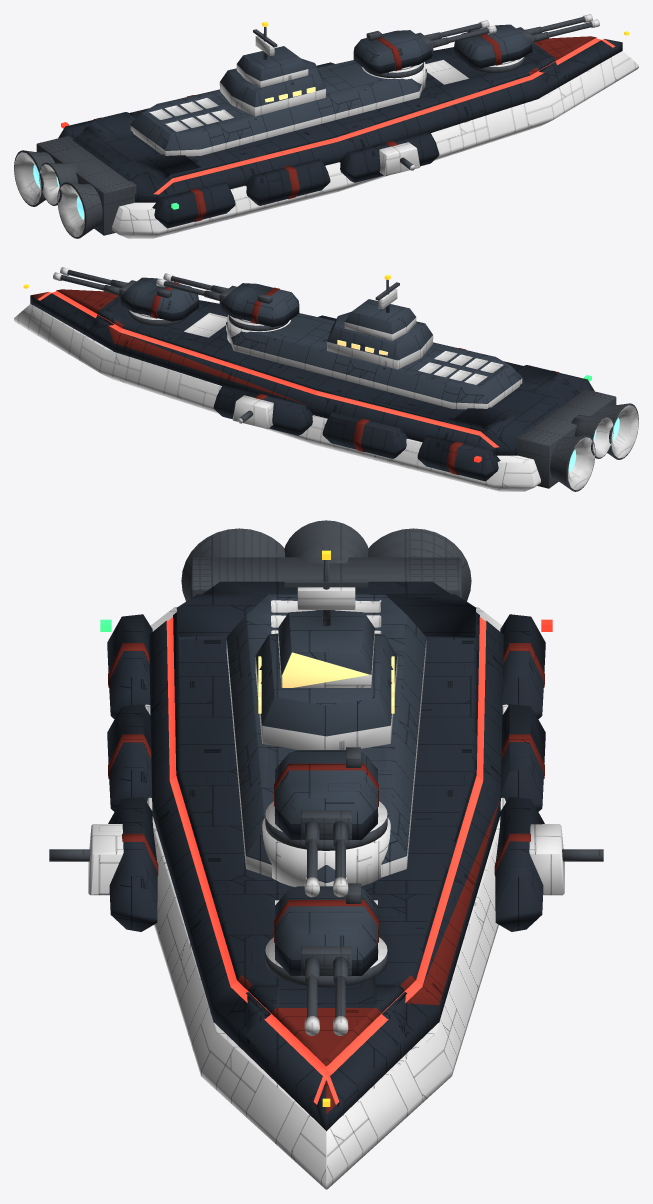
Rendered from bastion_production_v1_lod2.glb.
The picture shows the model from 3 angles, top to bottom: view 1: azimuth 30°, elevation 25°; view 2: azimuth 150°, elevation 25°; view 3: azimuth 270°, elevation 25°; orthographic projection. The views are drawn at different scales.
Visible parts, largest first — view 1: LOD0_Hull, LOD0_Hull_upper, LOD0_Armor, LOD0_Mechanical, LOD0_MechanicalDark, LOD0_Lights_Cyan_warning, LOD0_Livery; view 2: LOD0_Hull, LOD0_Hull_upper, LOD0_Armor, LOD0_Mechanical, LOD0_MechanicalDark, LOD0_Livery, LOD0_Lights_Cyan_warning, LOD0_HOOK_ARMOR_PORT_Hull, LOD0_HOOK_SECONDARY_CASEMATE_Armor; view 3: LOD0_Hull, LOD0_Hull_upper, LOD0_Armor, LOD0_Mechanical, LOD0_Livery, LOD0_Lights_Cyan_warning, LOD0_HOOK_ARMOR_PORT_Hull, LOD0_MechanicalDark, LOD0_Lights_Warm, LOD0_HOOK_SECONDARY_CASEMATE_Armor, LOD0_HOOK_SENSOR_MAST_MechanicalDark, LOD0_HOOK_SENSOR_MAST_Mechanical.
Boxes of the visible parts, bbox=[...] form: LOD0_Hull: bbox=[58, 39, 622, 228]; LOD0_Hull_upper: bbox=[130, 24, 531, 150]; LOD0_Armor: bbox=[112, 51, 638, 238]; LOD0_Mechanical: bbox=[14, 17, 592, 238]; LOD0_MechanicalDark: bbox=[14, 14, 599, 237]; LOD0_Lights_Cyan_warning: bbox=[153, 37, 615, 194]; LOD0_Livery: bbox=[93, 34, 596, 221]; LOD0_Hull: bbox=[30, 293, 594, 481]; LOD0_Hull_upper: bbox=[121, 277, 522, 403]; LOD0_Armor: bbox=[14, 304, 540, 491]; LOD0_Mechanical: bbox=[60, 270, 638, 491]; LOD0_MechanicalDark: bbox=[53, 267, 638, 490]; LOD0_Livery: bbox=[31, 282, 559, 474]; LOD0_Lights_Cyan_warning: bbox=[37, 290, 499, 447]; LOD0_HOOK_ARMOR_PORT_Hull: bbox=[322, 411, 407, 458]; LOD0_HOOK_SECONDARY_CASEMATE_Armor: bbox=[232, 395, 273, 428]; LOD0_Hull: bbox=[107, 581, 545, 1131]; LOD0_Hull_upper: bbox=[226, 594, 426, 959]; LOD0_Armor: bbox=[88, 607, 508, 1189]; LOD0_Mechanical: bbox=[49, 520, 471, 1017]; LOD0_Livery: bbox=[108, 643, 544, 1113]; LOD0_Lights_Cyan_warning: bbox=[166, 617, 486, 1104]; LOD0_HOOK_ARMOR_PORT_Hull: bbox=[501, 704, 545, 811]; LOD0_MechanicalDark: bbox=[49, 600, 387, 1035]; LOD0_Lights_Warm: bbox=[258, 652, 394, 713]; LOD0_HOOK_SECONDARY_CASEMATE_Armor: bbox=[529, 824, 564, 895]; LOD0_HOOK_SENSOR_MAST_MechanicalDark: bbox=[297, 587, 355, 609]; LOD0_HOOK_SENSOR_MAST_Mechanical: bbox=[284, 560, 368, 626].
Size of what is drawn, in the model's own units: 21.1 by 5.08 by 8.6.
Materials: 12 (6 with a texture image).
